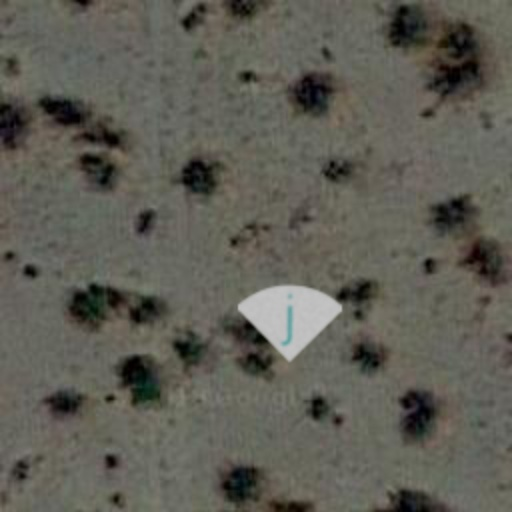quarter_circle: (238, 264, 342, 368)
